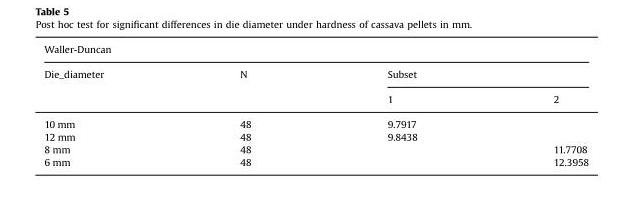table: (43, 42, 588, 167)
table column: (318, 42, 484, 167), (171, 42, 318, 167), (43, 42, 171, 167), (484, 42, 588, 167)
table column header: (43, 42, 588, 111)
table row: (43, 61, 588, 86), (43, 86, 588, 111), (43, 42, 588, 61), (43, 111, 588, 129), (43, 129, 588, 142), (43, 142, 588, 155), (43, 155, 588, 167)
table spanning cell: (43, 42, 588, 61), (171, 61, 318, 111), (318, 61, 588, 86), (43, 61, 171, 111)
